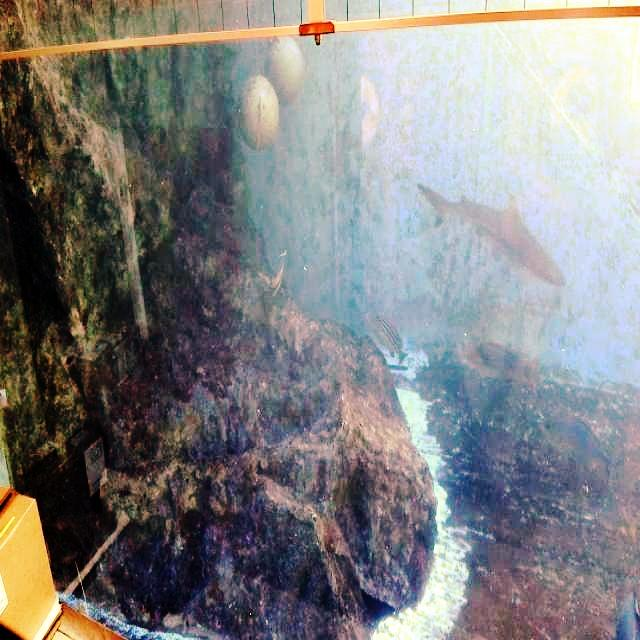Plectorhinchus lessonii: (364, 300, 412, 376)
gold snapper: (531, 388, 624, 495)
shark: (408, 158, 580, 306)
